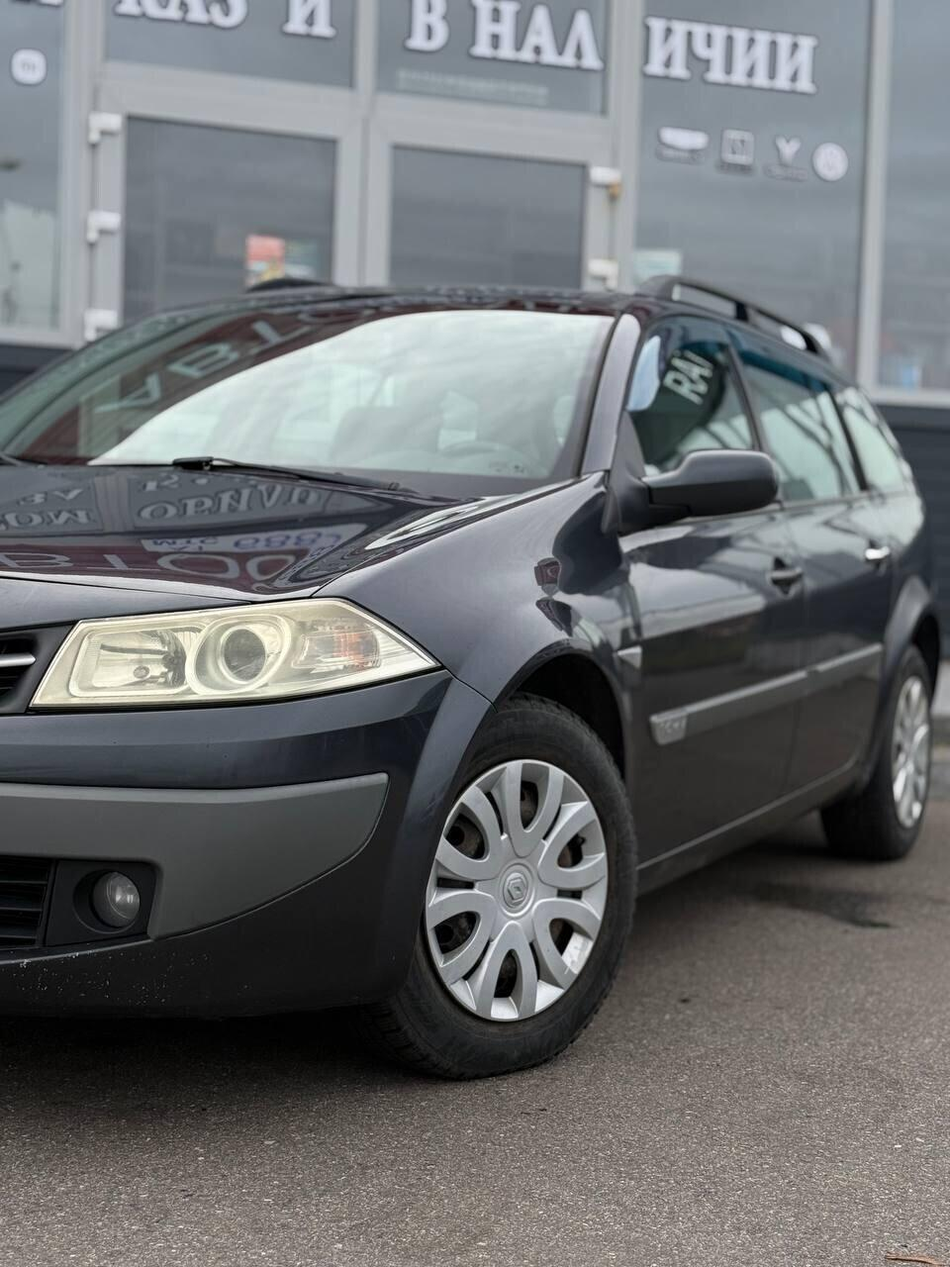Megane_2005-2009: (0, 274, 950, 1097)
